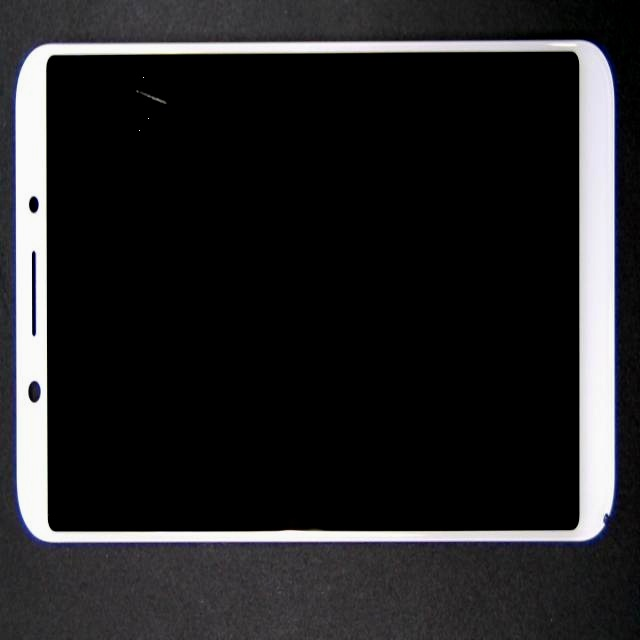scratch: (30, 33, 199, 165)
